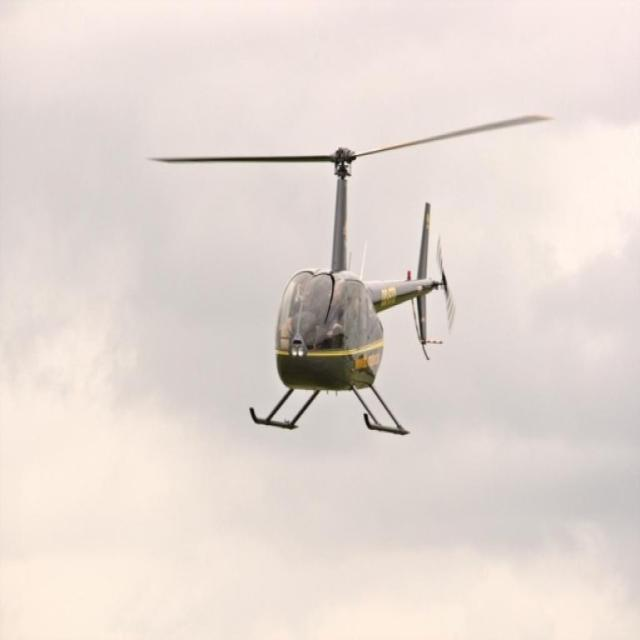CIV_HELO: (245, 144, 457, 441)
